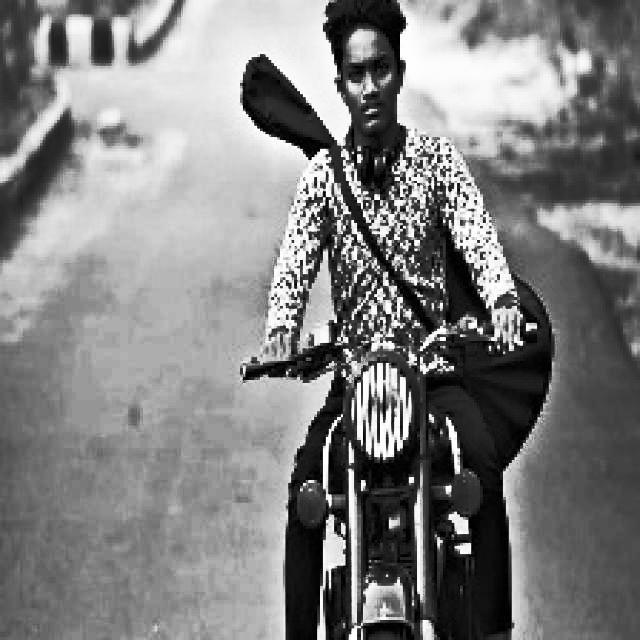Bike: (312, 296, 472, 639)
